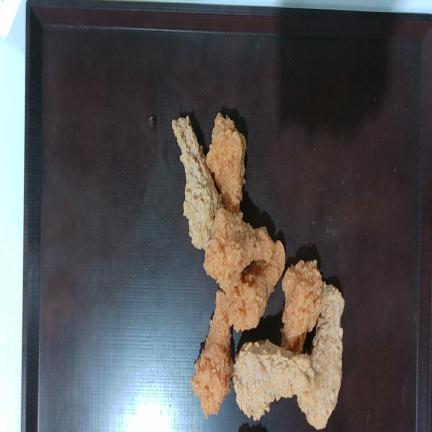chicken: (172, 116, 222, 248), (233, 340, 313, 421), (305, 284, 344, 428), (204, 208, 273, 286), (191, 290, 233, 418), (228, 241, 285, 331), (206, 113, 246, 212), (281, 260, 323, 353)
